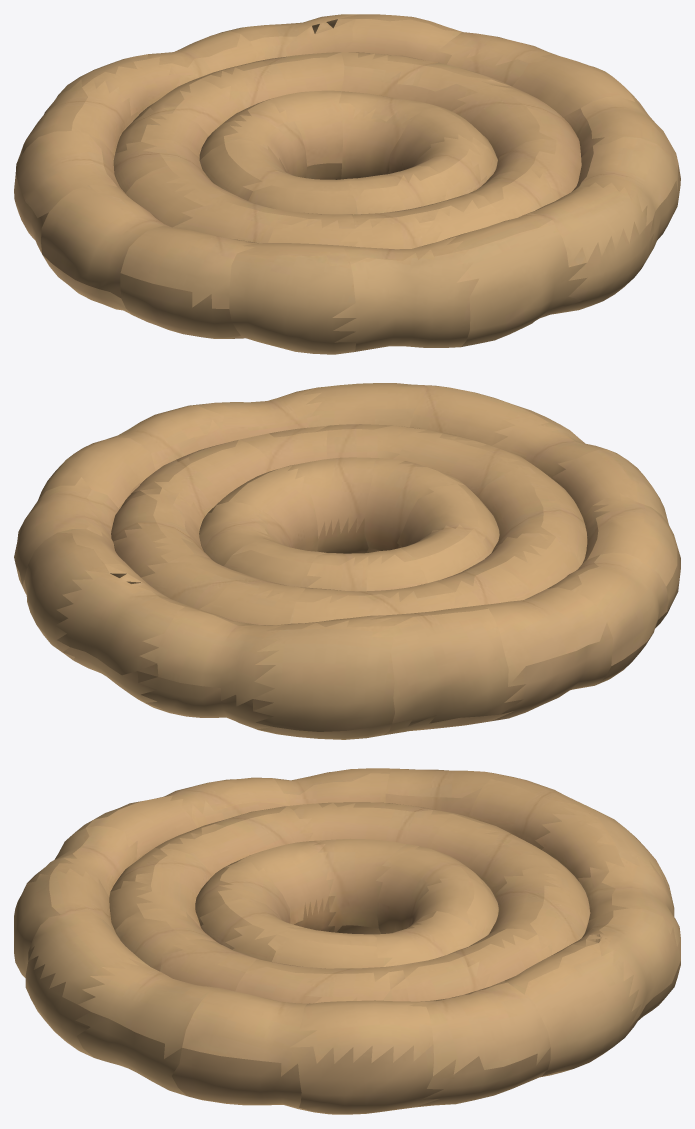
File: la_cuerda.glb
3 renders of one model, top to bottom at view 1: azimuth 30°, elevation 25°; view 2: azimuth 150°, elevation 25°; view 3: azimuth 270°, elevation 25°, orthographic. The views are drawn at different scales.
Bounding box in the file's own units: 1 × 0.1899 × 1.
Materials: 1 (1 with a texture image).
